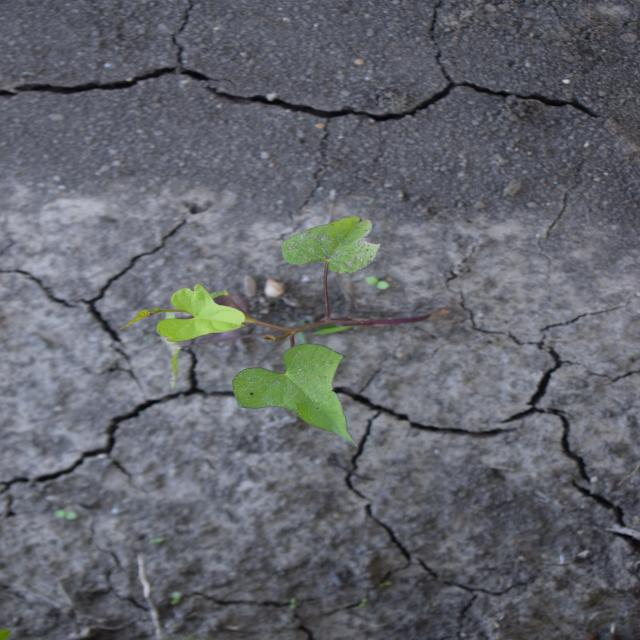MorningGlory: (112, 215, 456, 448)
